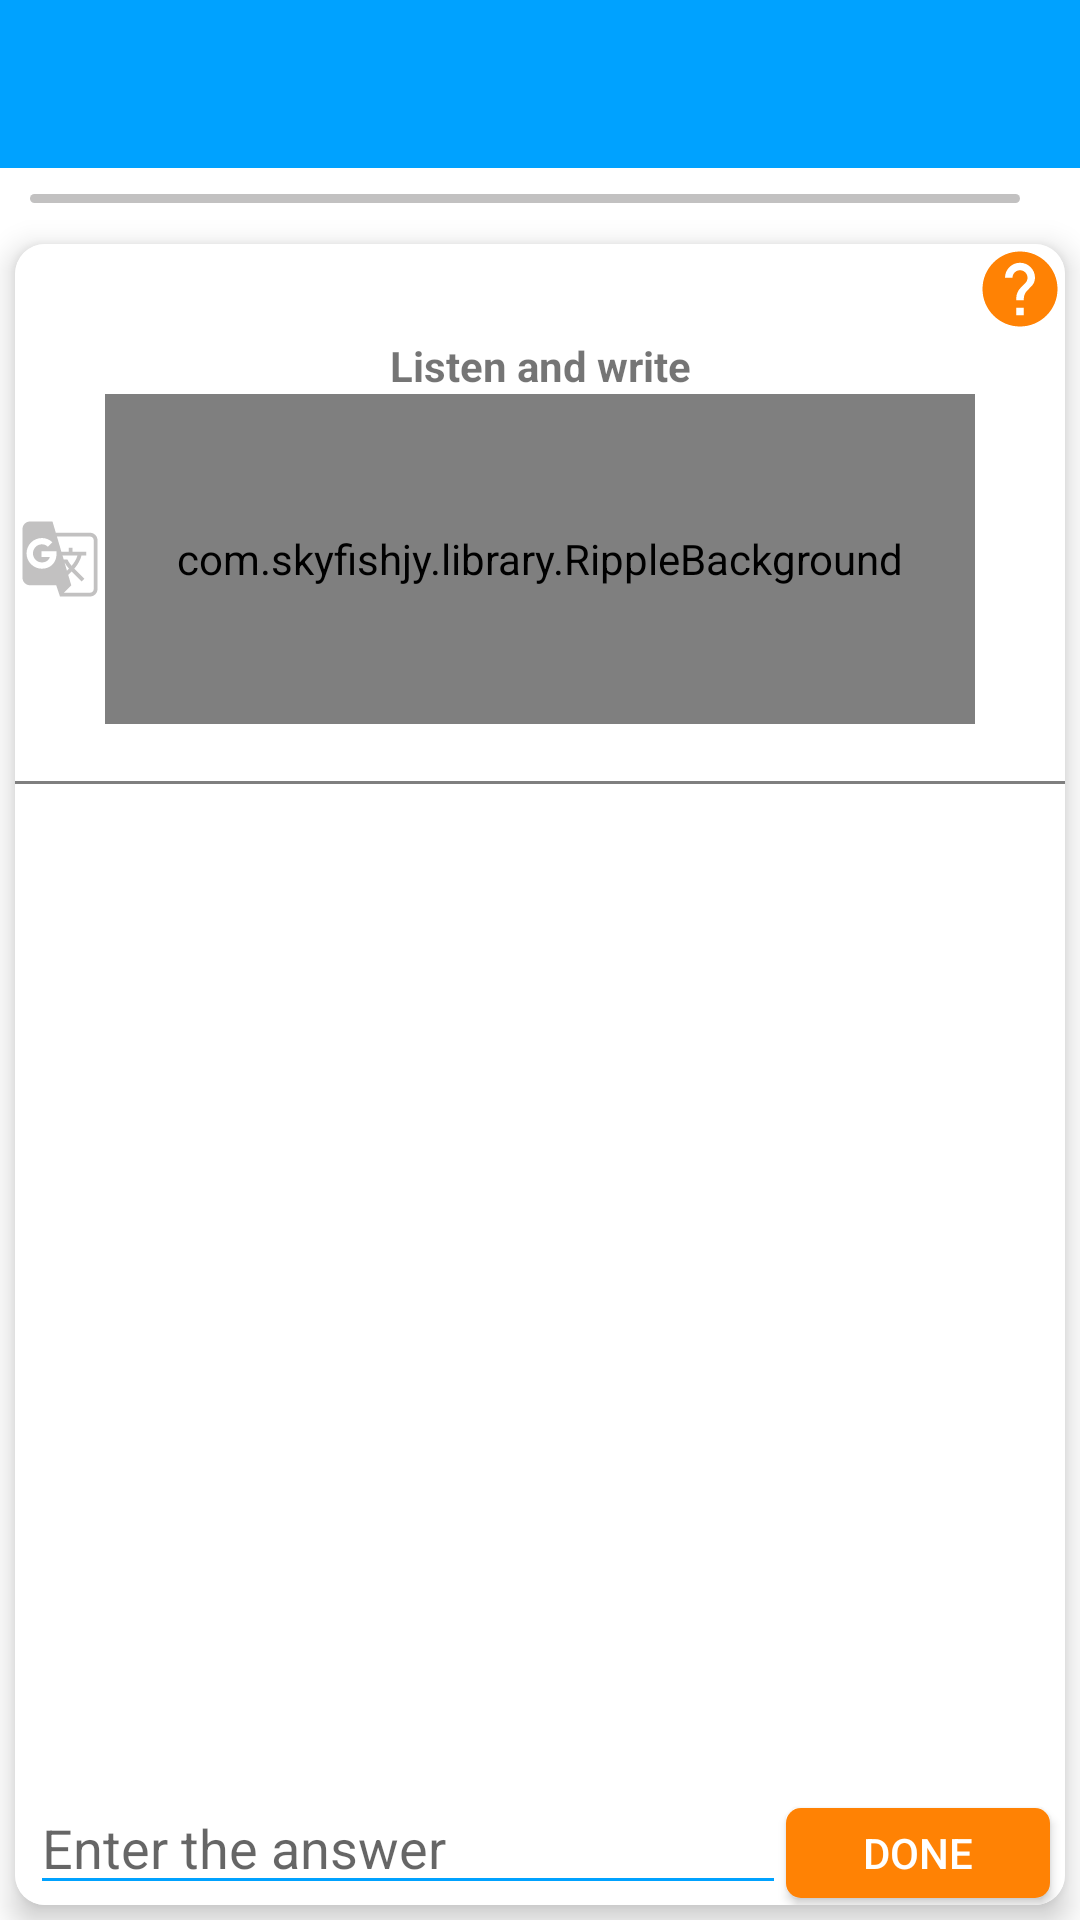

Icon click points for this 1080×1920 phone screenshot, format [x,y]:
help: [1020,288]
